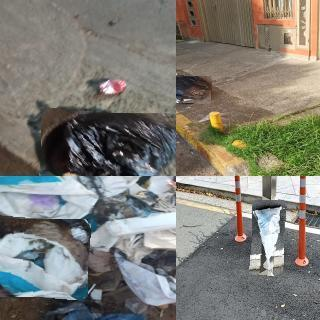Garbage: (39, 110, 176, 176), (0, 217, 89, 298), (0, 176, 100, 235), (112, 226, 176, 318), (251, 200, 285, 275), (176, 75, 211, 103)
